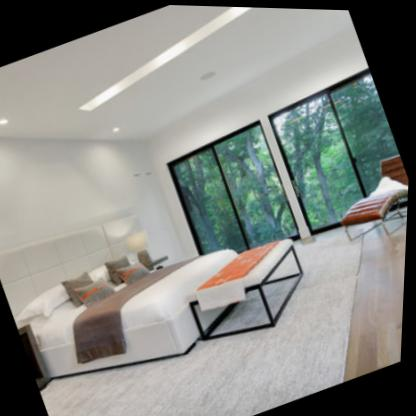Bed: (19, 247, 237, 378)
Carpet: (45, 332, 340, 416)
